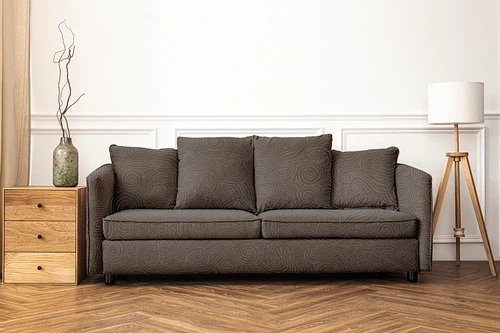floor lamp: (425, 79, 497, 280)
sofa: (82, 132, 436, 287)
